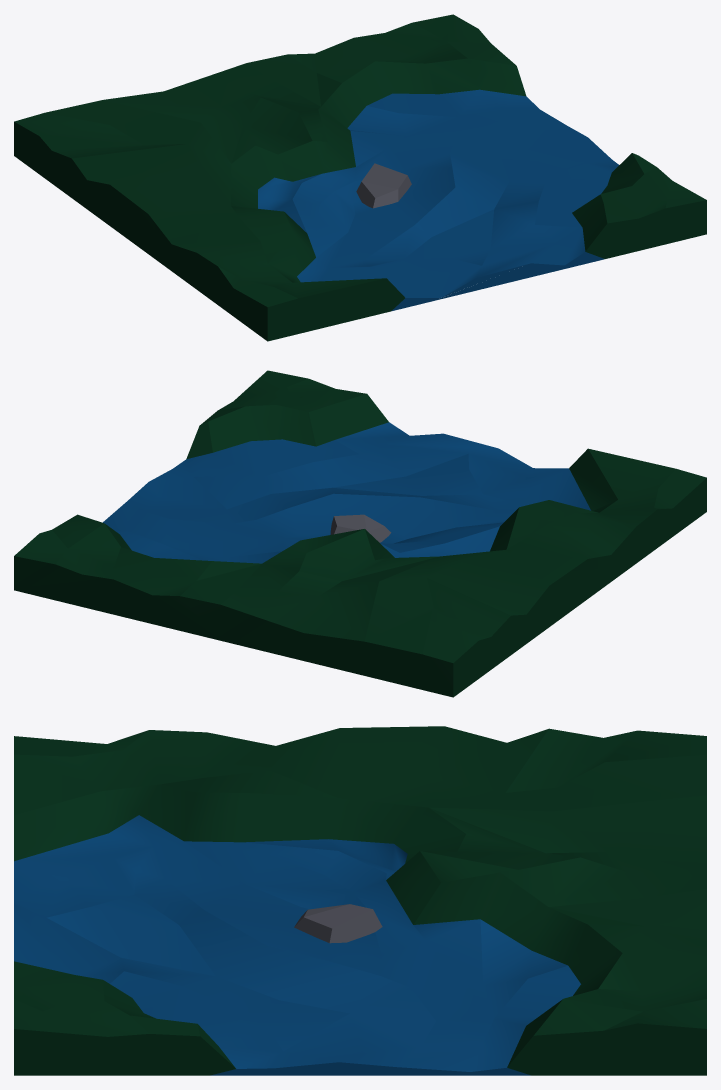
File: Water_Turn_LU.fbx
3 renders of one model, top to bottom at view 1: azimuth 30°, elevation 25°; view 2: azimuth 150°, elevation 25°; view 3: azimuth 270°, elevation 25°, orthographic. The views are drawn at different scales.
Parts seen in each view (by area): view 1: Water_Turn_LU; view 2: Water_Turn_LU; view 3: Water_Turn_LU.
Boxes of the visible parts, left/top/right/bottom form: Water_Turn_LU: left=14, top=14, right=706, bottom=341; Water_Turn_LU: left=14, top=370, right=706, bottom=697; Water_Turn_LU: left=14, top=726, right=706, bottom=1075.
Size of the model in its own units: 147 by 14.69 by 147.
